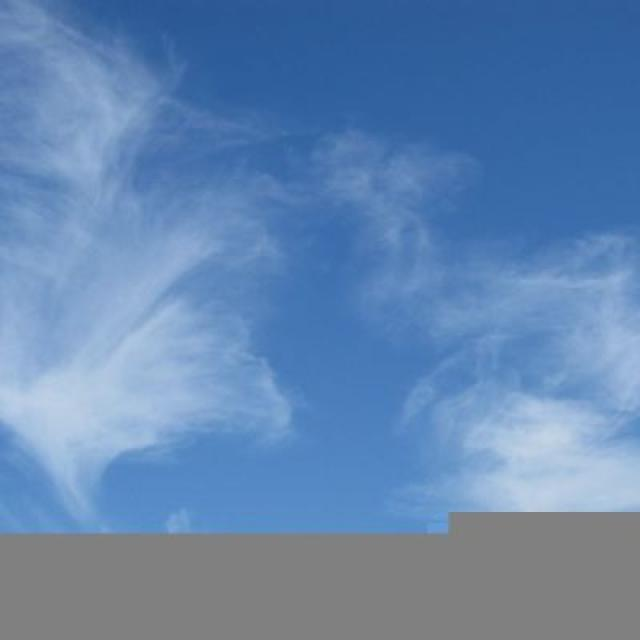Cc: (3, 51, 318, 512)
